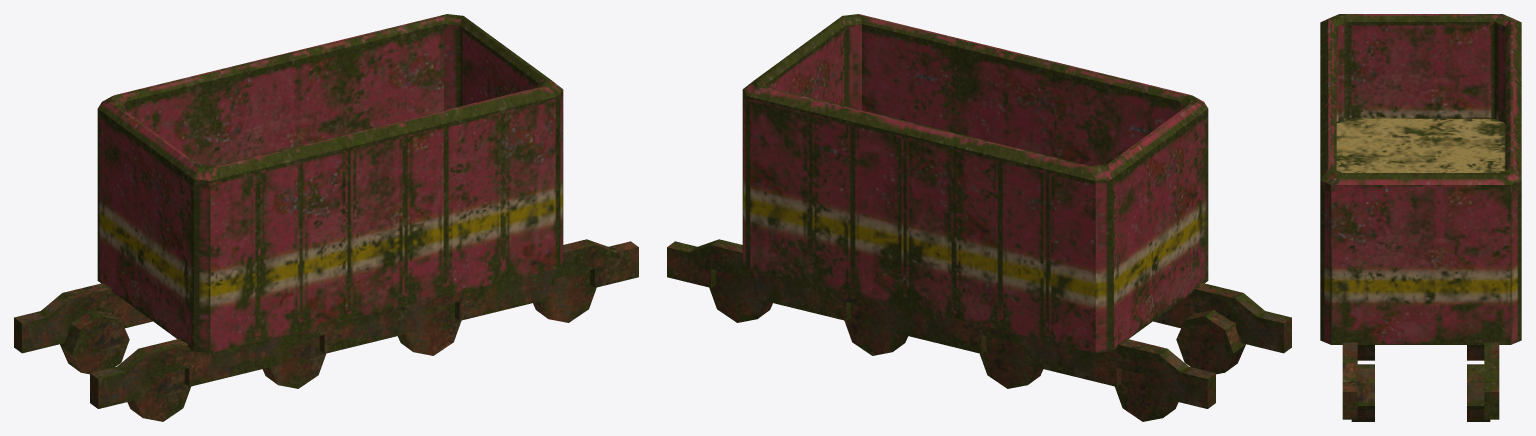
File: TrainBogie.fbx
3 renders of one model, left to right at view 1: azimuth 30°, elevation 25°; view 2: azimuth 150°, elevation 25°; view 3: azimuth 270°, elevation 25°, orthographic. The views are drawn at different scales.
Visible parts, largest first — view 1: TrainBogie; view 2: TrainBogie; view 3: TrainBogie.
Part boxes in pixels (x1,y1,x2,y2): TrainBogie: [14, 14, 638, 421]; TrainBogie: [667, 14, 1291, 421]; TrainBogie: [1320, 14, 1521, 421].
Bounding box in the file's own units: 3775 × 1691 × 1311.
Materials: 1 (1 with a texture image).
